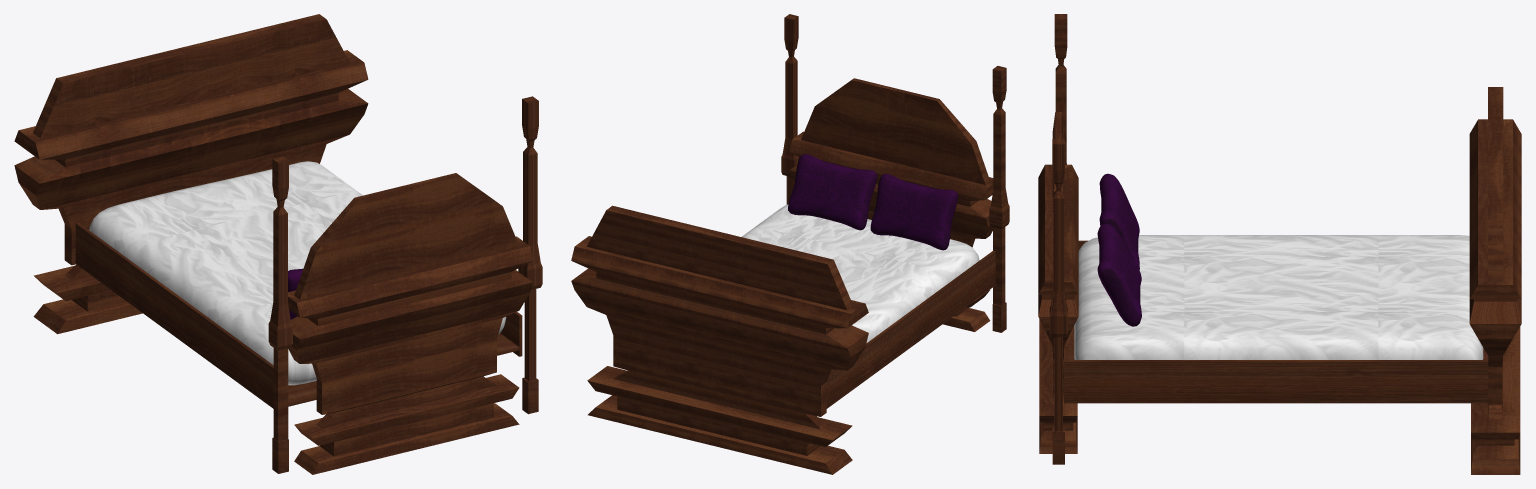
File: Bed for guest room.fbx
The picture shows the model from 3 angles, left to right: view 1: azimuth 30°, elevation 25°; view 2: azimuth 150°, elevation 25°; view 3: azimuth 270°, elevation 25°; orthographic projection. The views are drawn at different scales.
Visible parts, largest first — view 1: pCube1238, pCube1232, polySurface1317, pCube1236, pCube1295, pCube1235, pCube1296, pCube1237; view 2: pCube1232, pCube1238, polySurface1317, pCube1236, polySurface1319, polySurface1318, pCube1295, pCube1235; view 3: polySurface1317, pCube1237, pCube1232, pCube1238, pCube1235, polySurface1319, polySurface1318, pCube1295.
Part boxes in pixels (x1,y1,x2,y2): pCube1238: [288, 173, 532, 474]; pCube1232: [14, 14, 368, 334]; polySurface1317: [89, 161, 506, 385]; pCube1236: [75, 223, 273, 408]; pCube1295: [268, 156, 292, 473]; pCube1235: [518, 96, 542, 414]; pCube1296: [288, 333, 519, 406]; pCube1237: [500, 312, 522, 356]; pCube1232: [571, 205, 868, 474]; pCube1238: [789, 78, 993, 331]; polySurface1317: [742, 204, 979, 342]; pCube1236: [826, 250, 995, 408]; polySurface1319: [788, 154, 877, 230]; polySurface1318: [870, 174, 958, 250]; pCube1295: [989, 66, 1009, 332]; pCube1235: [781, 14, 799, 204]; polySurface1317: [1074, 235, 1483, 359]; pCube1237: [1064, 360, 1488, 403]; pCube1232: [1469, 87, 1521, 474]; pCube1238: [1038, 112, 1078, 453]; pCube1235: [1049, 139, 1067, 464]; polySurface1319: [1097, 223, 1141, 326]; polySurface1318: [1099, 173, 1139, 269]; pCube1295: [1054, 14, 1067, 164].
Size of the model in its own units: 345 by 315 by 426.
